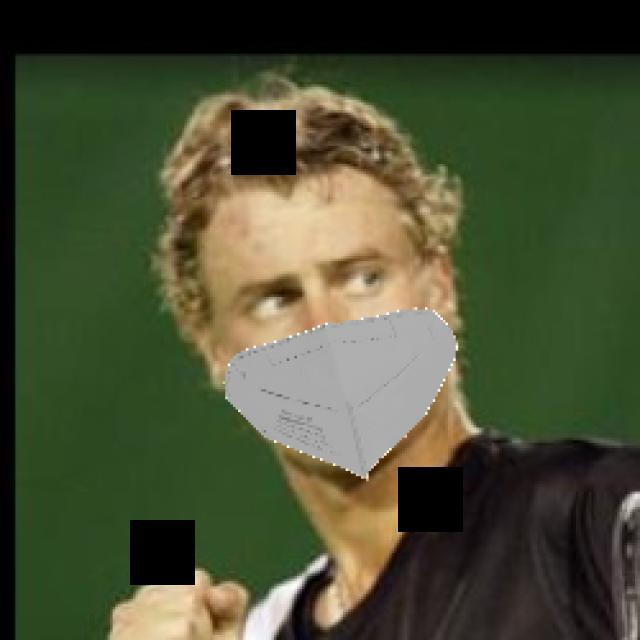kn95: (178, 159, 456, 486)
